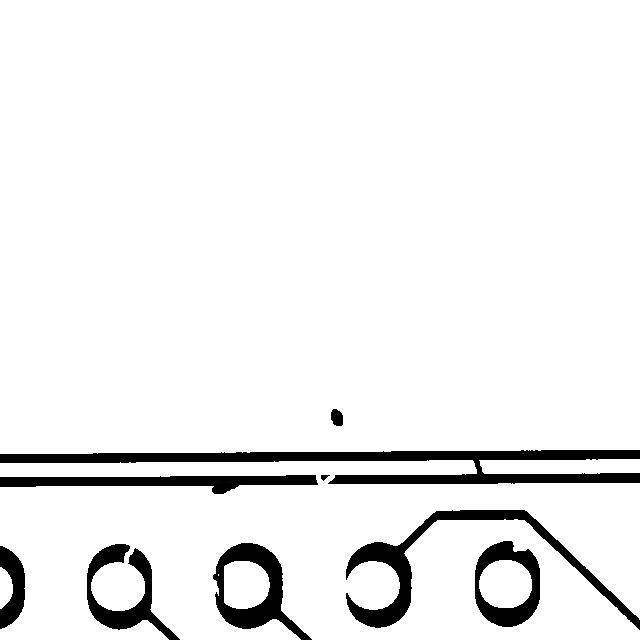copper: (321, 399, 352, 435)
mousebite: (503, 531, 536, 561)
open: (305, 457, 344, 497), (114, 534, 144, 573)
short: (203, 554, 233, 615), (460, 443, 494, 488)
spur: (202, 467, 252, 503)
